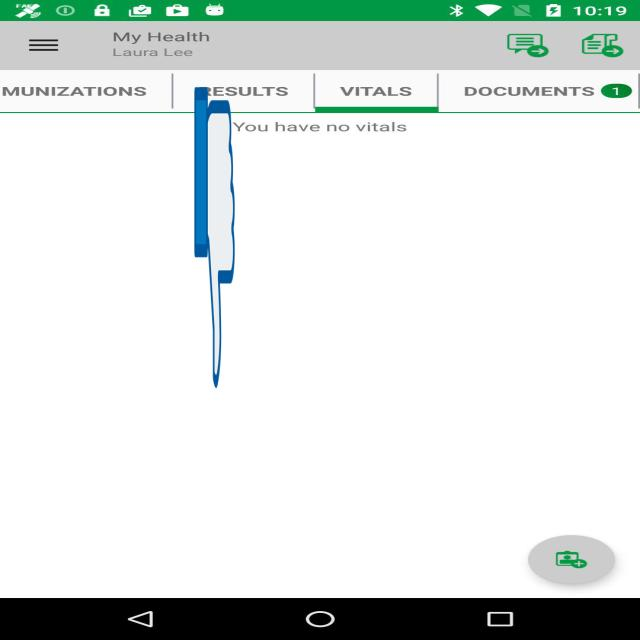obstruction: (194, 80, 235, 394)
